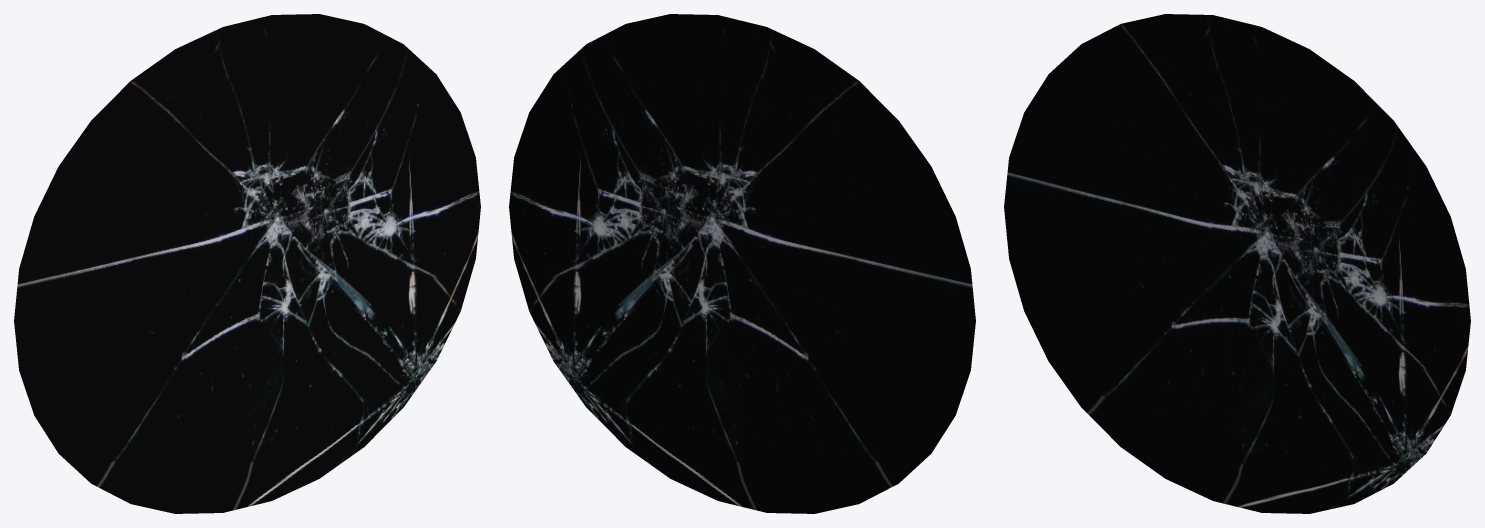
File: Crack 2.fbx
3 views of the same model, side by side, from view 1: azimuth 30°, elevation 25°; view 2: azimuth 150°, elevation 25°; view 3: azimuth 330°, elevation 25° (orthographic).
Visible parts, largest first — view 1: pCylinder1; view 2: pCylinder1; view 3: pCylinder1.
Boxes of the visible parts, x1=… form: pCylinder1: x1=14, y1=14, x2=480, y2=513; pCylinder1: x1=509, y1=14, x2=975, y2=513; pCylinder1: x1=1004, y1=14, x2=1470, y2=513.
Size of the model in its own units: 16.74 by 16.65 by 0.
1 material, 1 textured.
